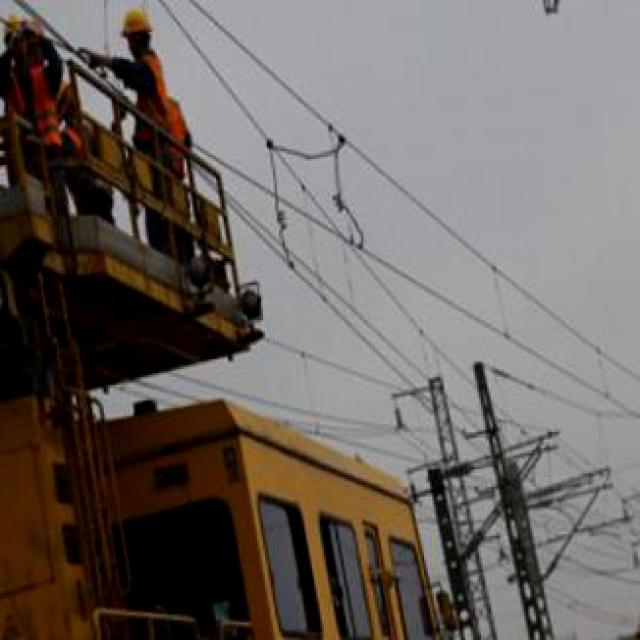helmet: (122, 5, 153, 36)
